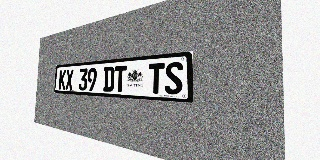3: (78, 68, 88, 90)
9: (87, 67, 97, 91)
D: (103, 66, 115, 92)
K: (59, 70, 66, 90)
S: (165, 61, 183, 95)
T: (148, 63, 165, 94), (114, 65, 127, 92)
X: (65, 69, 73, 90)
